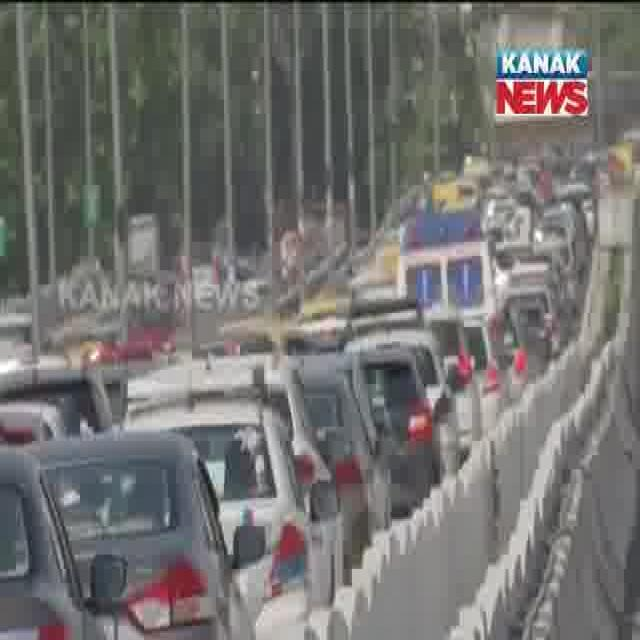ambulance: (398, 205, 493, 314)
